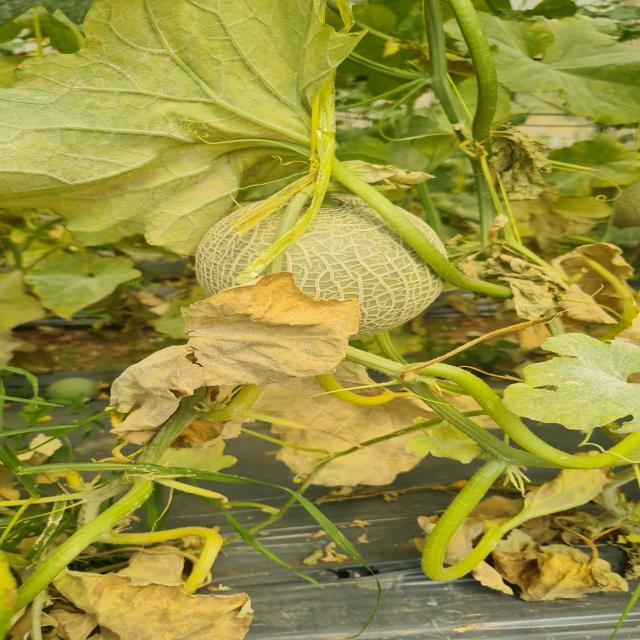melon: (282, 194, 442, 339), (196, 202, 282, 296)
